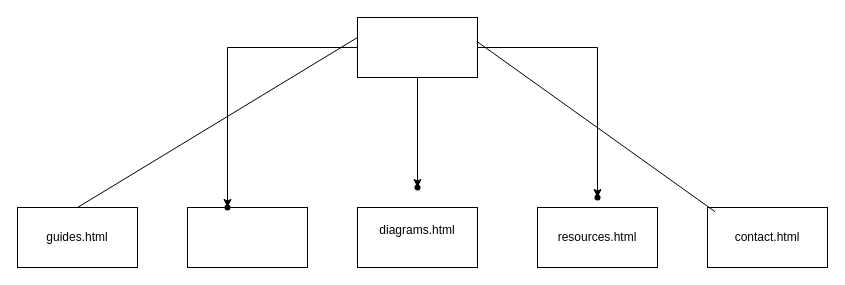
Image size: 845x285. Some labels were removed from this diagram. The box of each missing label's shape, as (x1, y1, x2, y2) in pixels:
glossary.html: (186, 206, 308, 268)
Index.html: (356, 16, 478, 78)
